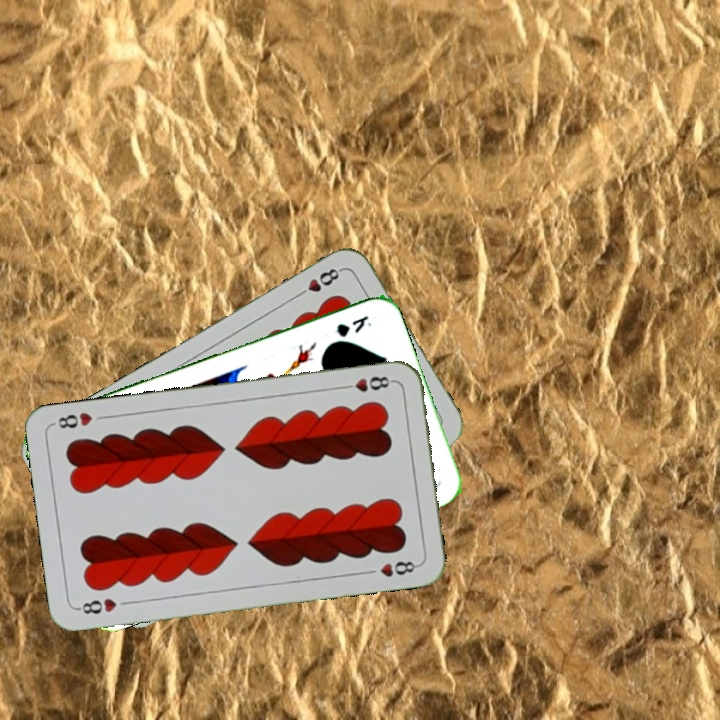GK: (332, 311, 374, 340)
H8: (292, 264, 345, 301), (337, 372, 396, 395), (73, 594, 120, 617)
